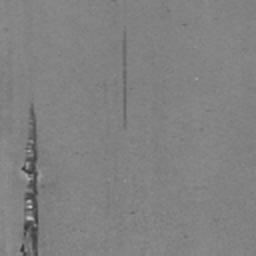Slag inclusion: (18, 100, 40, 256), (122, 29, 128, 128)
